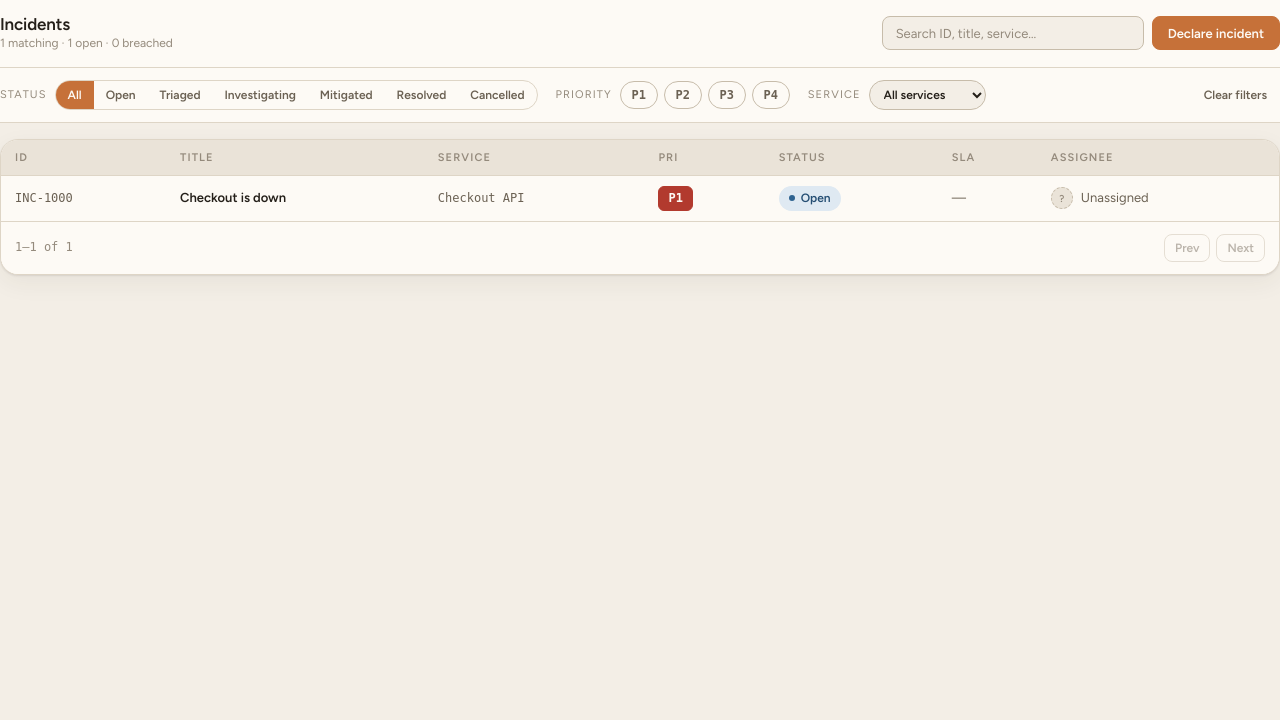
Test: IncidentsPage › declare incident › surfaces a server rejection instead of closing the form
Check: the text "Checkout is down" is shown, box [166,176,424,221]
Click the button "Declare incident".
click(1216, 34)  # box [1152,16,1279,50]
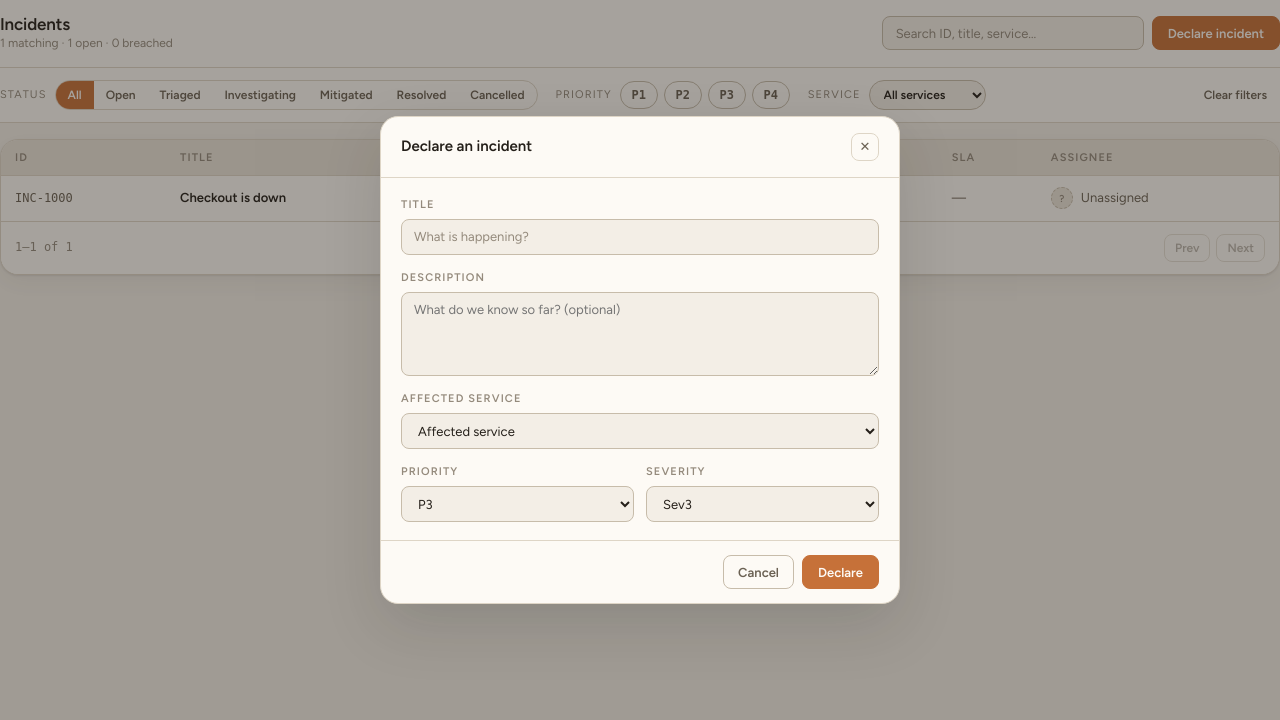
Type "Payments failing" into the field labelled "Title".
click(640, 237); type("Payments failing")  # box [401,219,879,255]
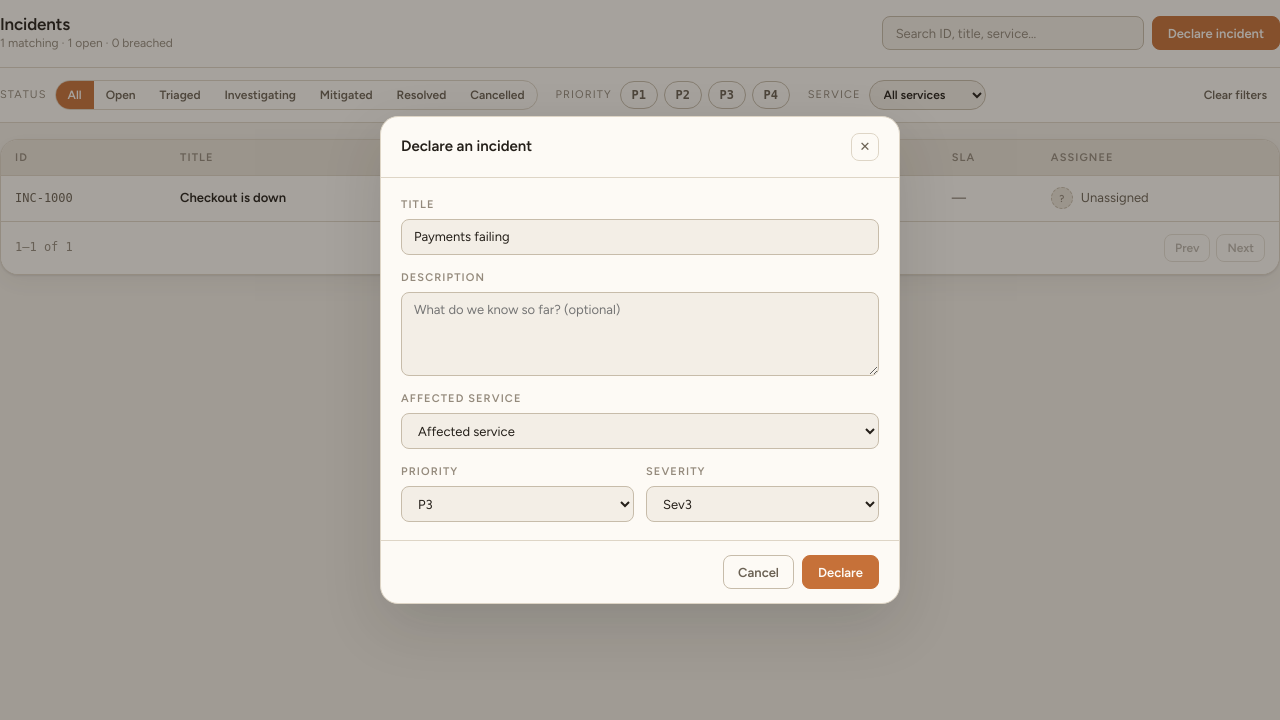
Select "Checkout API" in the dropdown labelled "Affected service" at coordinates (640, 431), box [401,413,879,449]
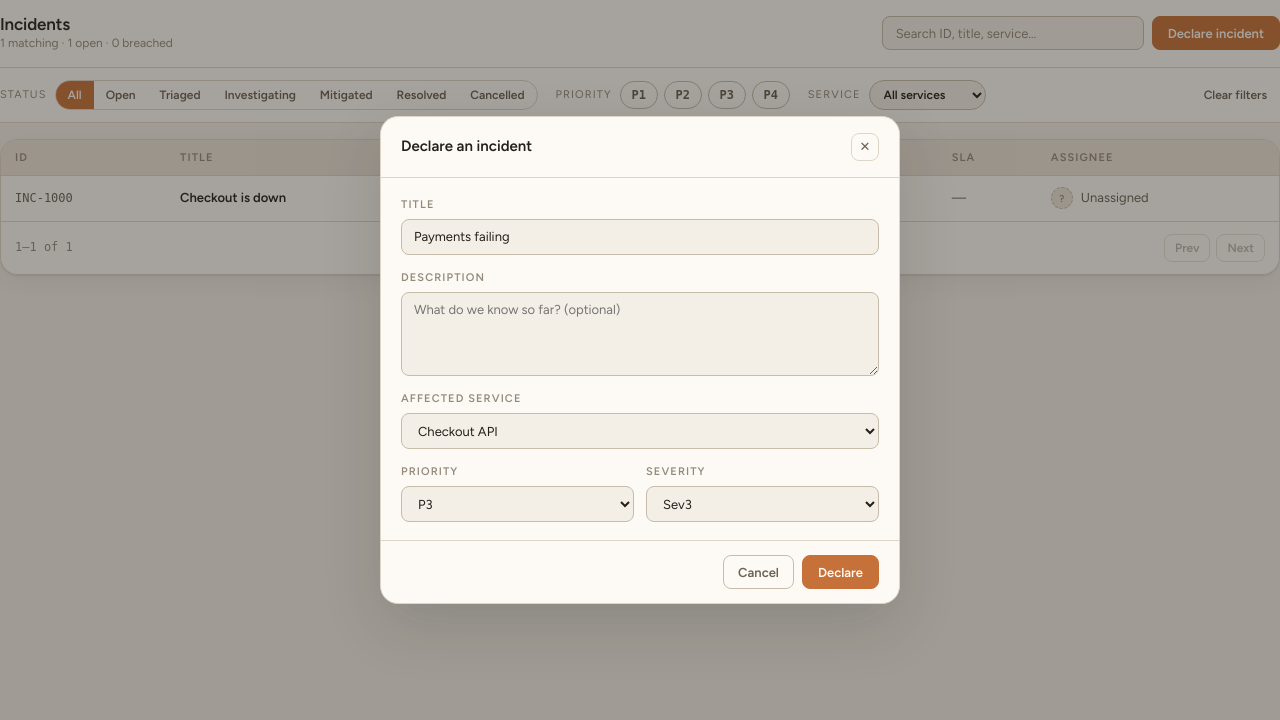
Click the button "Declare".
click(840, 572)  # box [802,555,879,589]
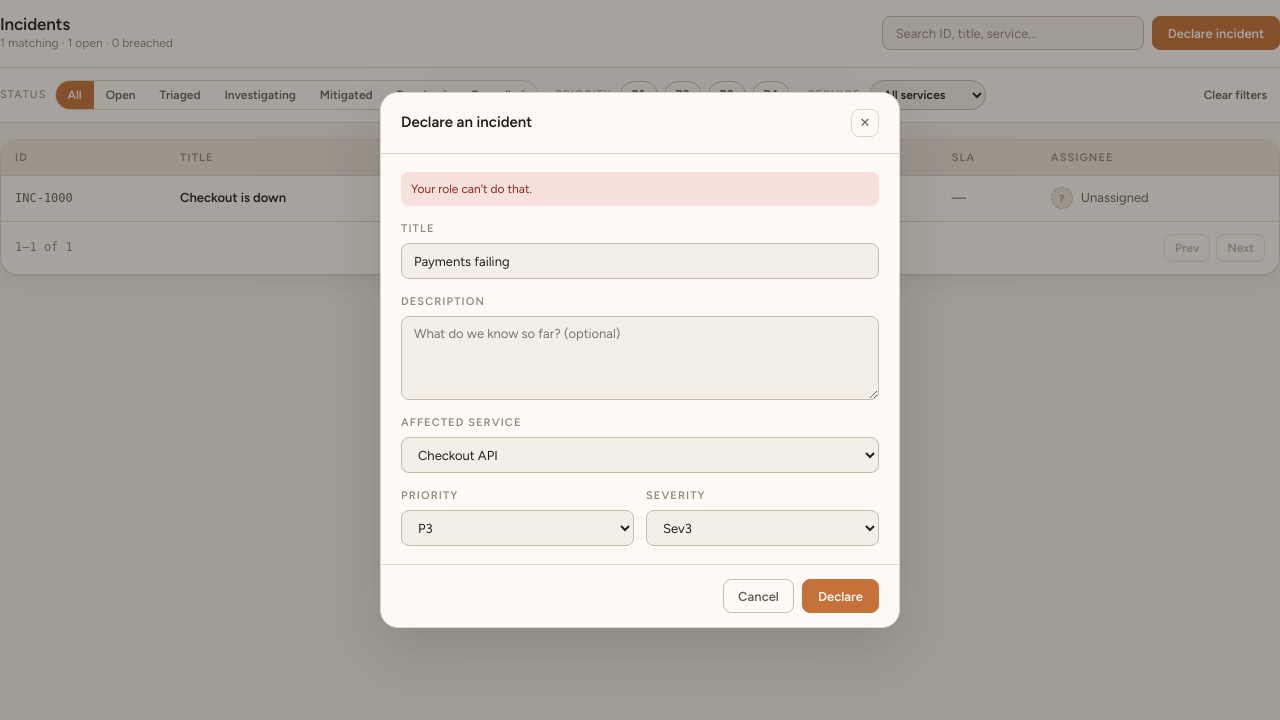
Check: the dialog is shown, box [380,92,900,628]
Check: the text "Your role can't do that." is shown, box [401,172,879,206]
